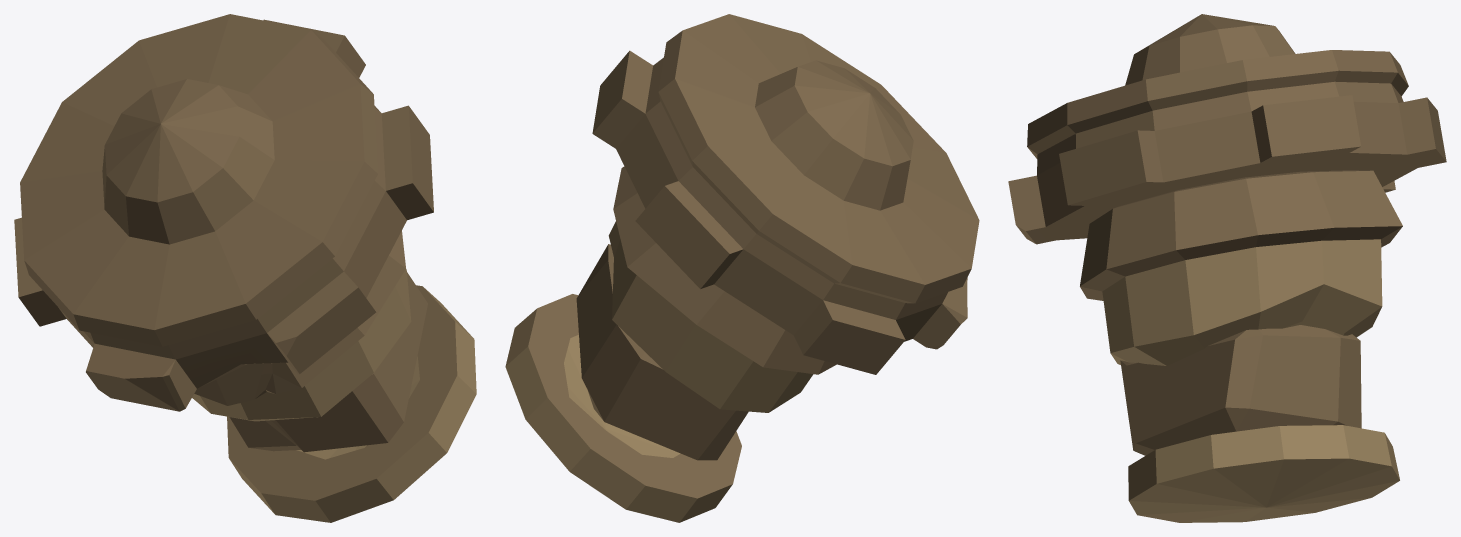
Rendered from arm_l_upper.gltf.
3 views of the same model, side by side, from view 1: azimuth 30°, elevation 25°; view 2: azimuth 150°, elevation 25°; view 3: azimuth 270°, elevation 25° (orthographic). The views are drawn at different scales.
Parts seen in each view (by area): view 1: arm_l_upper; view 2: arm_l_upper; view 3: arm_l_upper.
Boxes of the visible parts, left/top/right/bottom form: arm_l_upper: left=14, top=14, right=476, bottom=522; arm_l_upper: left=505, top=14, right=979, bottom=522; arm_l_upper: left=1008, top=14, right=1446, bottom=522.
Bounding box in the file's own units: 3.46 × 3.79 × 3.14.
Materials: 1 (1 with a texture image).
